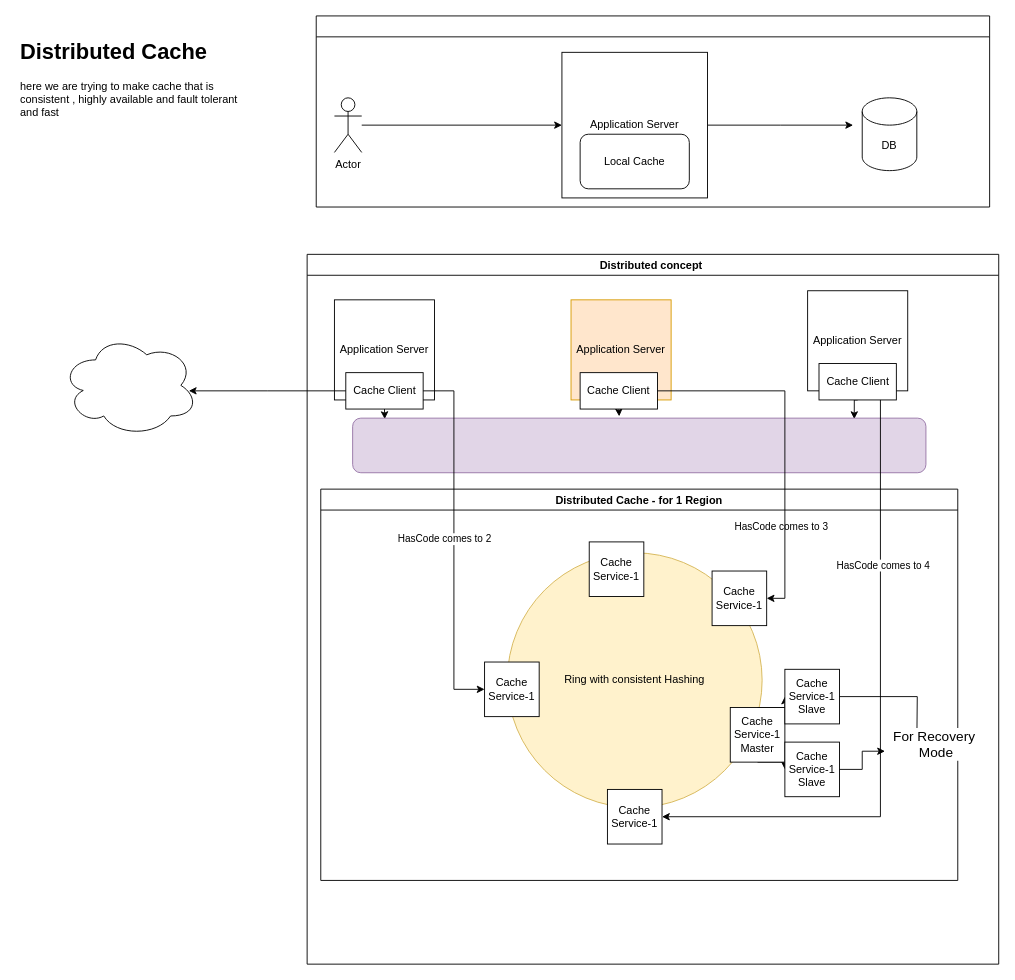
Image size: 1015x980. Some labels were removed from this diagram. Here are the shapes that lost their labels. From the top down, the centre of each, then its label:
(x=652, y=111): Simple Setup
(x=129, y=385): Client is going to Judge which cache server to call on base of HasCode
(x=639, y=445): ZooKeeper(Keeping ranges for Ring server)
